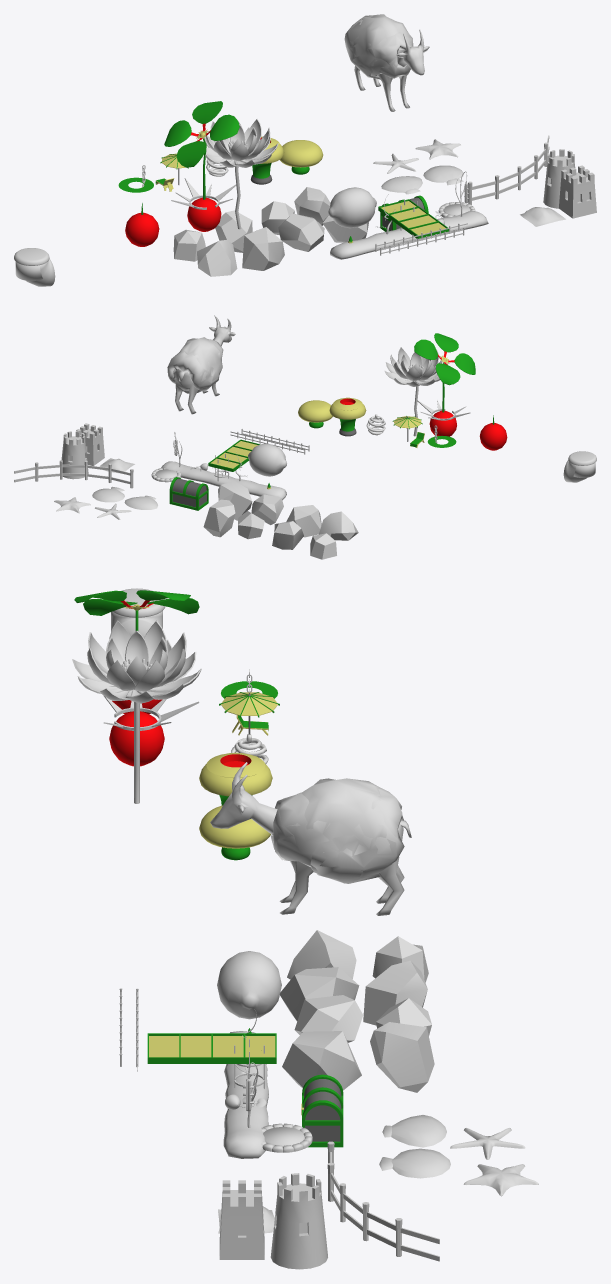
The picture shows the model from 3 angles, top to bottom: view 1: azimuth 30°, elevation 25°; view 2: azimuth 150°, elevation 25°; view 3: azimuth 270°, elevation 25°; orthographic projection. The views are drawn at different scales.
Parts seen in each view (by area): view 1: Burstbloom_flower, goat_wool_highres, farm, Sandcastle.001, Lenom, Rock.004, Farm Box, goat_wool_lowres, goat, Rock.003, Rock.006, Sandcastle (+23 smaller); view 2: Burstbloom_flower, farm, goat_wool_highres, goat, Fence, Lenom, Sandcastle, goat_wool_lowres, Goosher, Rock.002, Farm Box, Rock.006 (+18 smaller); view 3: goat_wool_highres, goat_wool_lowres, Sandcastle, Farm Box, goat, Lenom, Rock.002, lake_flower.001, Sandcastle.001, farm, Rock.001, Rock.007 (+18 smaller).
Boxes of the visible parts, <box> form: Burstbloom_flower: <box>164,101,239,167</box>; goat_wool_highres: <box>345,14,412,79</box>; farm: <box>330,211,488,259</box>; Sandcastle.001: <box>558,165,596,218</box>; Lenom: <box>328,187,376,228</box>; Rock.004: <box>242,227,284,270</box>; Farm Box: <box>378,199,448,238</box>; goat_wool_lowres: <box>344,15,413,78</box>; goat: <box>354,29,429,111</box>; Rock.003: <box>278,213,324,251</box>; Rock.006: <box>197,240,237,276</box>; Sandcastle: <box>543,149,575,208</box>; Burstbloom_flower: <box>414,333,475,385</box>; farm: <box>161,461,286,500</box>; goat_wool_highres: <box>167,337,222,393</box>; goat: <box>174,315,235,414</box>; Fence: <box>14,460,133,488</box>; Lenom: <box>248,443,286,476</box>; Sandcastle: <box>61,431,88,479</box>; goat_wool_lowres: <box>167,339,223,390</box>; Goosher: <box>329,397,366,436</box>; Rock.002: <box>203,499,235,537</box>; Farm Box: <box>208,439,259,471</box>; Rock.006: <box>319,511,358,540</box>; goat_wool_highres: <box>273,778,404,883</box>; goat_wool_lowres: <box>271,788,403,883</box>; Sandcastle: <box>270,1173,327,1269</box>; Farm Box: <box>147,1033,276,1063</box>; goat: <box>210,762,411,915</box>; Lenom: <box>217,951,281,1019</box>; Rock.002: <box>370,1022,434,1092</box>; lake_flower.001: <box>87,620,186,691</box>; Sandcastle.001: <box>219,1180,264,1259</box>; farm: <box>223,1031,268,1158</box>; Rock.001: <box>282,1031,361,1090</box>; Rock.007: <box>363,960,427,1025</box>.
Bounding box in the file's own units: 40.63 × 13.98 × 16.26.
